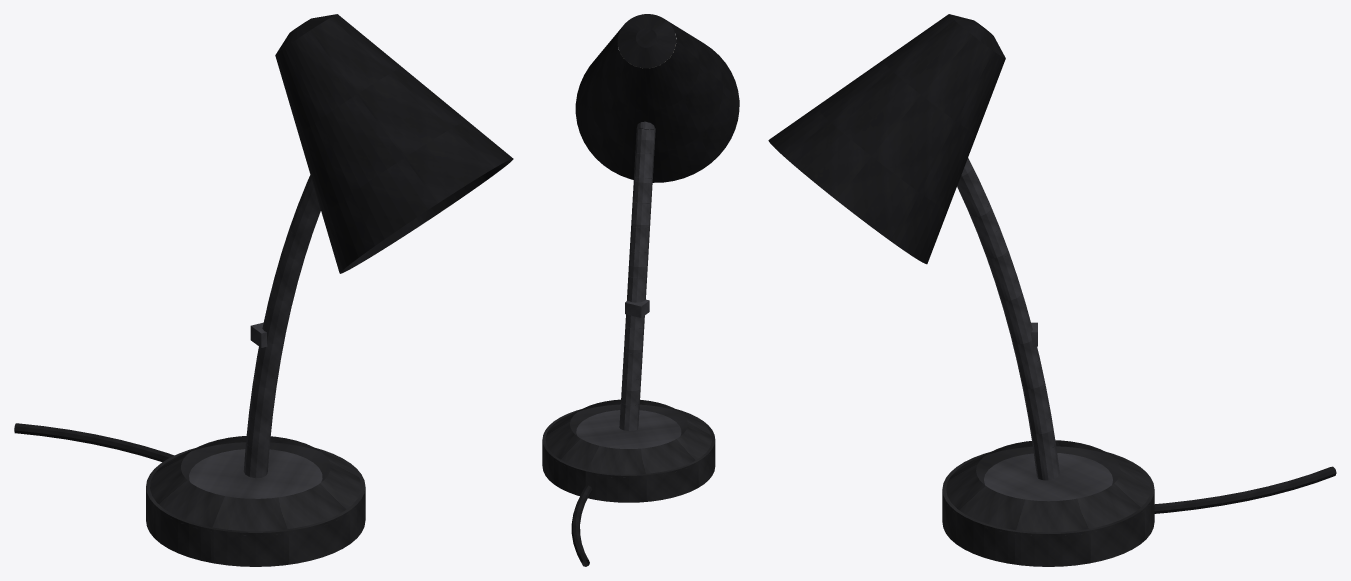
Rendered from lamp.glb.
The picture shows the model from 3 angles, left to right: view 1: azimuth 30°, elevation 25°; view 2: azimuth 150°, elevation 25°; view 3: azimuth 270°, elevation 25°; orthographic projection. The views are drawn at different scales.
Visible parts, largest first — view 1: lamp; view 2: lamp; view 3: lamp.
Boxes of the visible parts, bbox=[...] form: lamp: bbox=[14, 14, 513, 566]; lamp: bbox=[542, 14, 739, 566]; lamp: bbox=[768, 14, 1336, 566].
Size of the model in its own units: 0.2156 by 0.4389 by 0.4392.
Materials: 8 (8 with a texture image).
